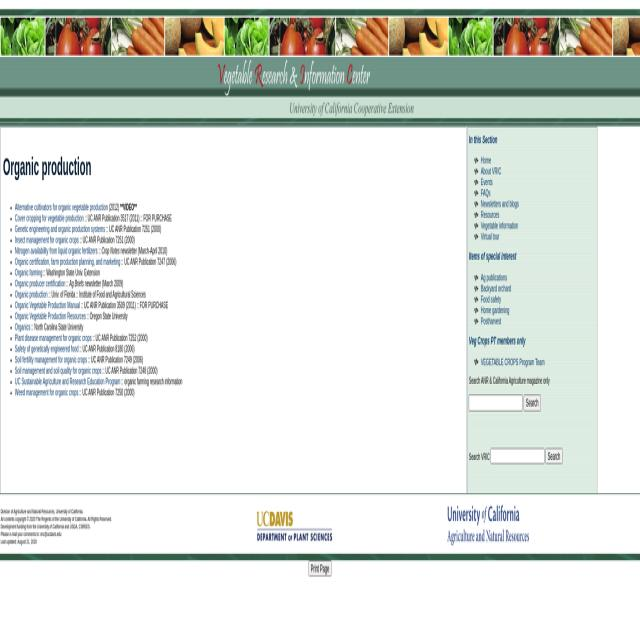button: (216, 56, 424, 125), (447, 505, 529, 546), (256, 511, 332, 541), (308, 561, 332, 576), (545, 448, 563, 464), (523, 394, 541, 409)
field: (491, 448, 544, 464), (469, 395, 523, 410)
